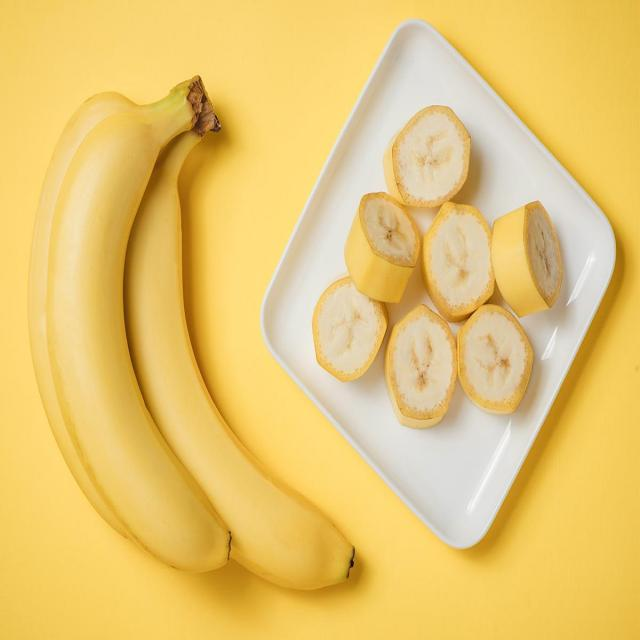banana: (22, 53, 364, 599)
